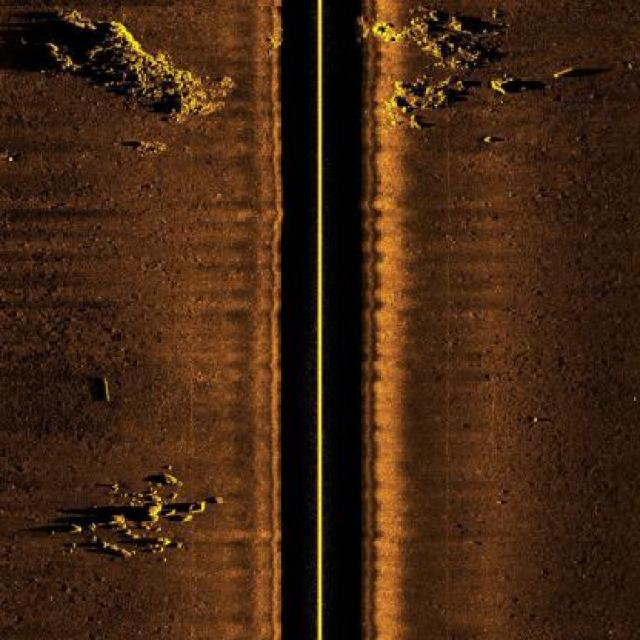mine: (84, 372, 115, 405), (552, 64, 612, 79)
